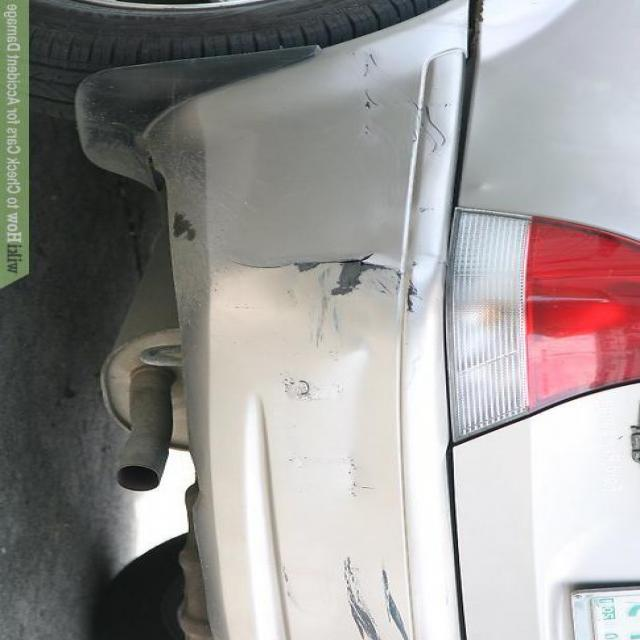scratch: (228, 239, 460, 310), (322, 539, 406, 640), (159, 205, 205, 248)
